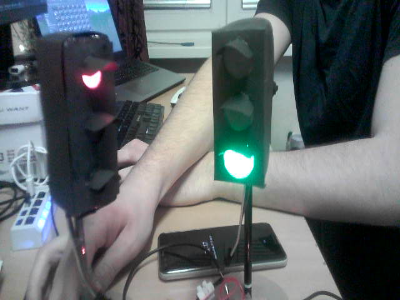trafficlight_green: (213, 32, 263, 181)
trafficlight_red: (63, 37, 112, 205)
